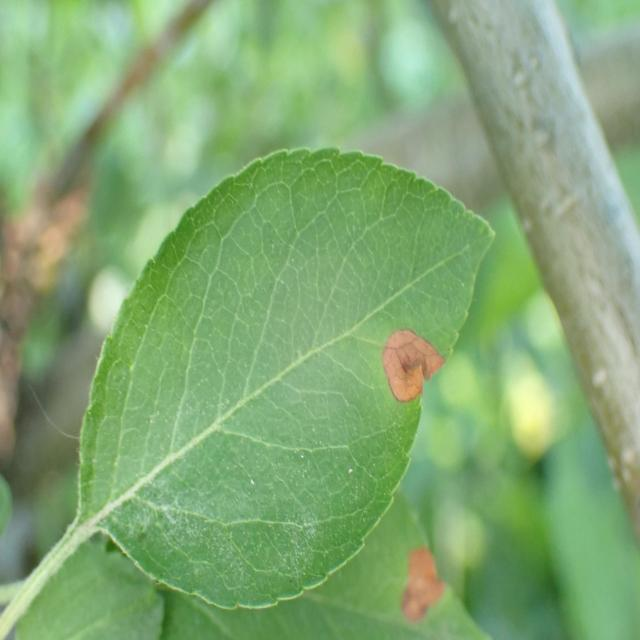Black Rot: (373, 306, 448, 431), (387, 539, 455, 628)
